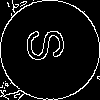S: (25, 25, 75, 64)
